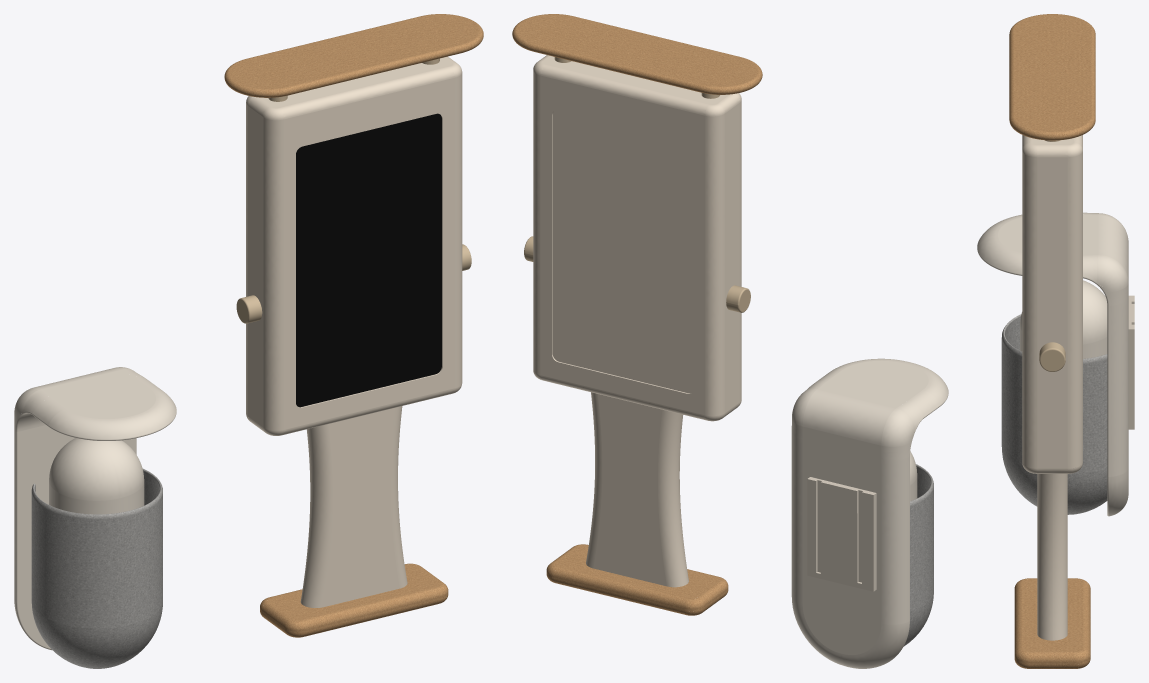
The picture shows the model from 3 angles, left to right: view 1: azimuth 30°, elevation 25°; view 2: azimuth 150°, elevation 25°; view 3: azimuth 270°, elevation 25°; orthographic projection. The views are drawn at different scales.
Parts seen in each view (by area): view 1: 본체1 (×2), 본체6 (×2), 본체2 (×2), 본체5; view 2: 본체1 (×2), 본체2, 본체5, 본체6 (×2), 본체7; view 3: 본체1 (×2), 본체6 (×2), 본체5, 본체2 (×2), 본체7, 본체35.
Boxes of the visible parts, x1=… form: 본체1 (×2): x1=14, y1=56, x2=462, y2=650; 본체6 (×2): x1=31, y1=468, x2=448, y2=668; 본체2 (×2): x1=49, y1=406, x2=407, y2=607; 본체5: x1=224, y1=14, x2=483, y2=97; 본체1 (×2): x1=533, y1=55, x2=948, y2=668; 본체2: x1=586, y1=392, x2=688, y2=587; 본체5: x1=512, y1=14, x2=762, y2=94; 본체6 (×2): x1=546, y1=464, x2=933, y2=646; 본체7: x1=807, y1=477, x2=876, y2=591; 본체1 (×2): x1=977, y1=135, x2=1128, y2=516; 본체6 (×2): x1=1001, y1=314, x2=1107, y2=668; 본체5: x1=1009, y1=14, x2=1095, y2=140; 본체2 (×2): x1=1020, y1=280, x2=1107, y2=640; 본체7: x1=1128, y1=295, x2=1134, y2=429; 본체35: x1=1039, y1=342, x2=1065, y2=371.
Bounding box in the file's own units: 0.1654 × 0.2027 × 0.0518.
7 materials, 2 textured.
